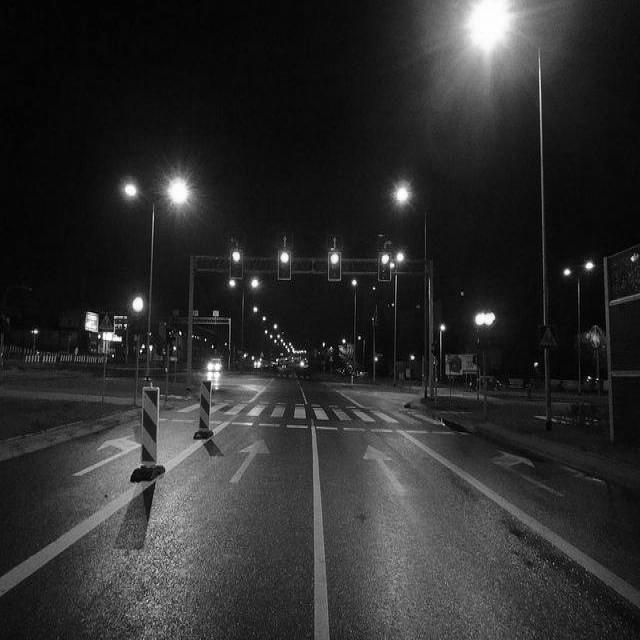vehicle: (487, 376, 504, 390), (208, 359, 223, 372)
